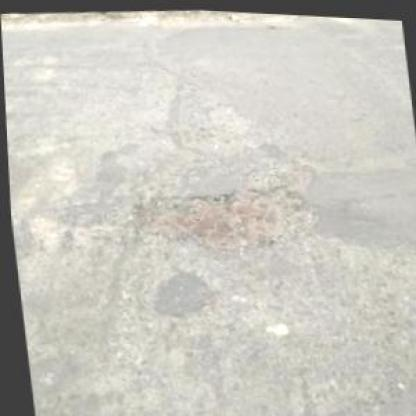pothole: (126, 175, 325, 263)
